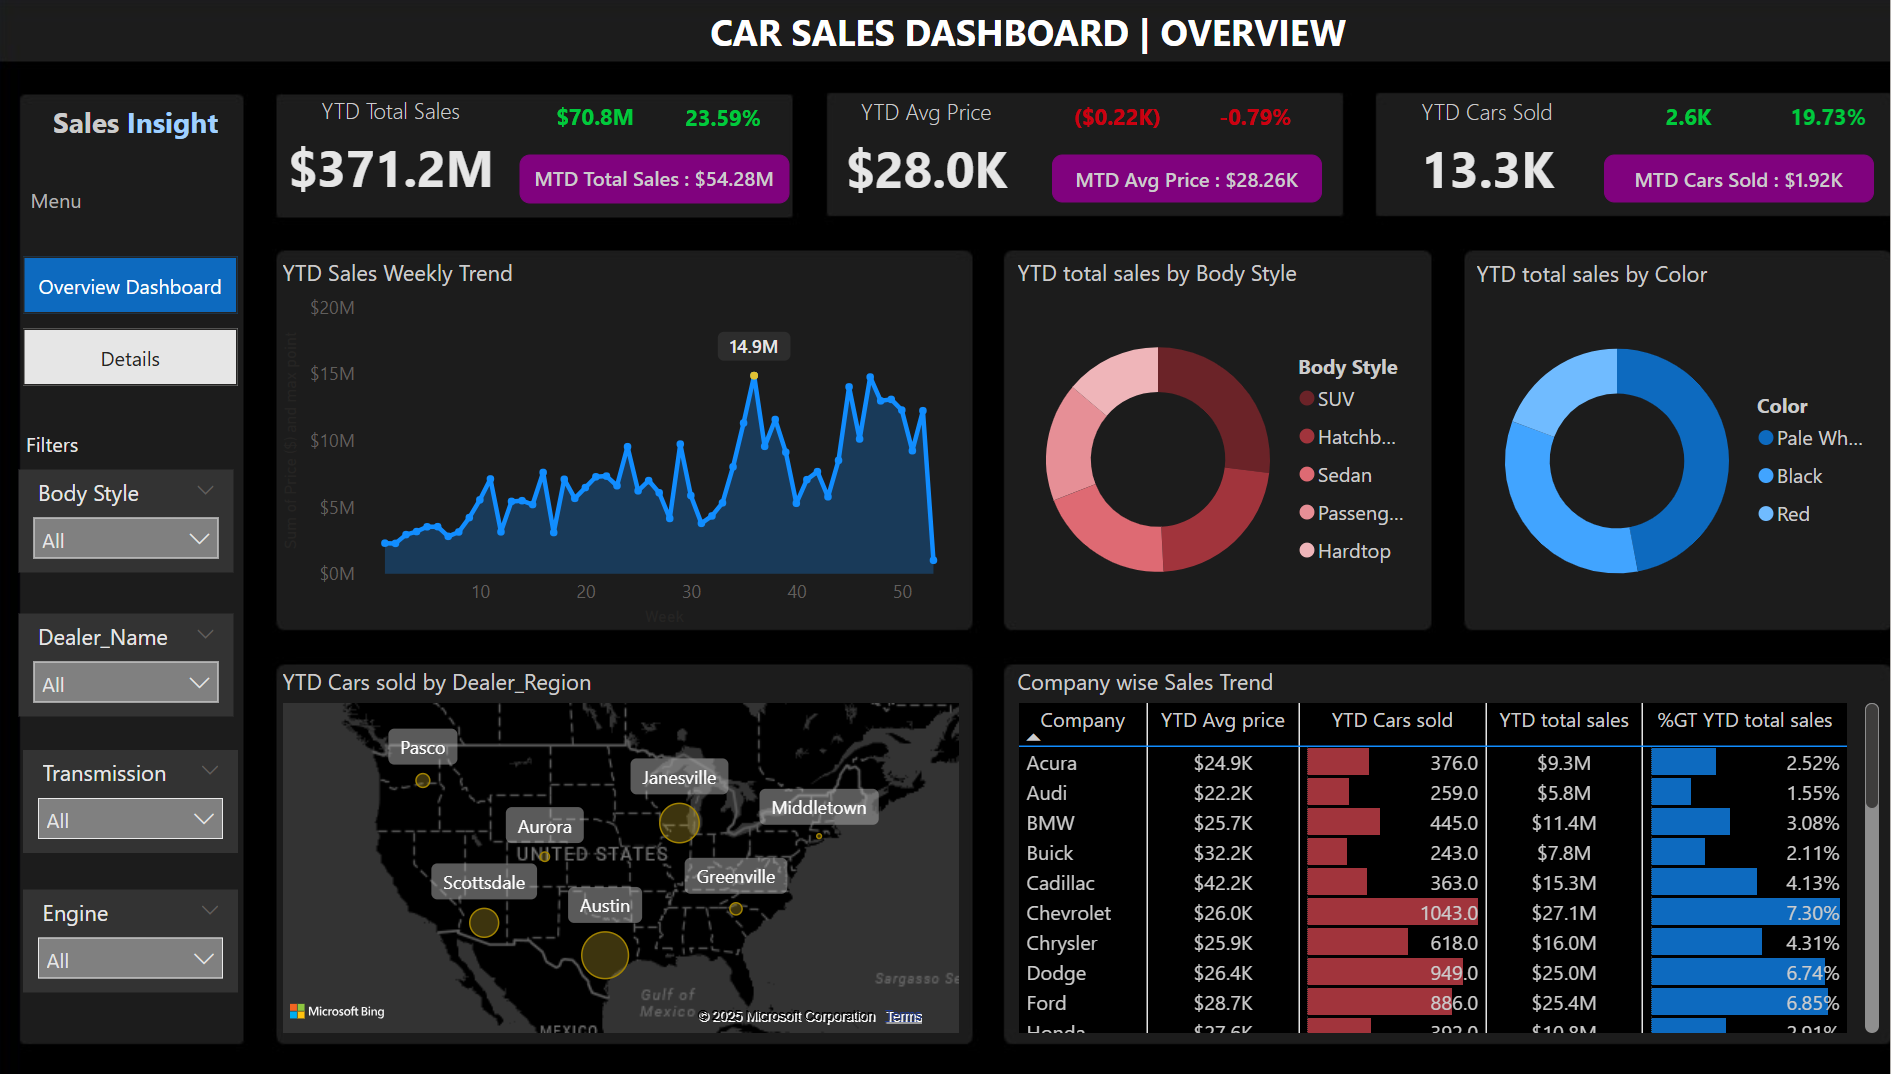

This screenshot's page, from the dashboard's own definition file:
{"tool":"powerbi","page":{"name":"Overview Dashboard","canvas":[1280,720],"ordinal":0},"visuals":[{"type":"card","title":"YTD Total Sales","fields":{"Values":["car_data.YTD total sales"]},"box":[185.6,63.3,154.4,78.9],"z":0},{"type":"card","fields":{"Values":["car_data.Sales Differnce"]},"box":[340,62.2,117.8,36.7],"z":1000},{"type":"card","fields":{"Values":["car_data.YOY Sales Growth"]},"box":[432.2,63.3,104.4,35.6],"z":2000},{"type":"card","fields":{"Values":["car_data.MTD kpi"]},"box":[348.9,103.3,180,33],"z":3000},{"type":"card","title":"YTD Avg Price","fields":{"Values":["car_data.YTD Avg price"]},"box":[536,64,168,78],"z":4000},{"type":"card","fields":{"Values":["car_data.Avg price diff"]},"box":[688,62,118,36],"z":5000},{"type":"card","fields":{"Values":["car_data.YOY Avg price"]},"box":[780,62,118,36],"z":6000},{"type":"card","fields":{"Values":["car_data.MTD avg price Kpi"]},"box":[704,103,180,32],"z":7000},{"type":"card","title":"YTD Cars Sold","fields":{"Values":["car_data.YTD Cars sold"]},"box":[910,64,168,78],"z":8000},{"type":"card","fields":{"Values":["car_data.Cars sold diff"]},"box":[1069,62,118,36],"z":9000},{"type":"card","fields":{"Values":["car_data.YOY car sold"]},"box":[1162,62,118,36],"z":10000},{"type":"card","fields":{"Values":["car_data.MTD Cars sold Kpi"]},"box":[1072,103,180,32],"z":11000},{"type":"areaChart","title":"YTD Sales Weekly Trend","fields":{"Category":["Calendar.Week"],"Y":["Sum(car_data.Price ($))","car_data.max point"]},"box":[186,171,461,251],"z":12000},{"type":"donutChart","fields":{"Category":["car_data.Body Style"],"Y":["car_data.YTD total sales"]},"box":[676,171,278,251],"z":13000},{"type":"donutChart","fields":{"Y":["car_data.YTD total sales"],"Category":["car_data.Color"]},"box":[982,172,278,251],"z":14000},{"type":"map","fields":{"Category":["car_data.Dealer_Region"],"Size":["car_data.YTD Cars sold"]},"box":[186,444,461,250],"z":15000},{"type":"tableEx","title":"Company wise Sales Trend","fields":{"Values":["car_data.Company","car_data.YTD Avg price","car_data.YTD Cars sold","car_data.YTD total sales1","car_data.YTD total sales"]},"box":[676,444,584,250],"z":16000},{"type":"textbox","box":[454,0,468,43],"z":17000},{"type":"slicer","fields":{"Values":["car_data.Body Style"]},"box":[15,313,143,69],"z":18000},{"type":"slicer","fields":{"Values":["car_data.Dealer_Name"]},"box":[15,409,143,69],"z":19000},{"type":"slicer","fields":{"Values":["car_data.Transmission"]},"box":[18,500,143,69],"z":20000},{"type":"slicer","fields":{"Values":["car_data.Engine"]},"box":[18,593,143,69],"z":21000},{"type":"textbox","box":[15,282,150,31],"z":22000},{"type":"textbox","box":[18,64,150,39],"z":23000},{"type":"textbox","box":[18,119,53,29],"z":24000},{"type":"pageNavigator","box":[18,171,143,86],"z":25000}]}

Visuals, with their boxes on the page's 1280x720 design canvas (x1, y1, x2, y2). These are canvas units, not pixel positions in the 1893x1074 screenshot, which may show the page scaled, cropped or inside an application window:
"YTD Total Sales" card: [left=186, top=63, right=340, bottom=142]
card - car_data.Sales Differnce: [left=340, top=62, right=458, bottom=99]
card - car_data.YOY Sales Growth: [left=432, top=63, right=537, bottom=99]
card - car_data.MTD kpi: [left=349, top=103, right=529, bottom=136]
"YTD Avg Price" card: [left=536, top=64, right=704, bottom=142]
card - car_data.Avg price diff: [left=688, top=62, right=806, bottom=98]
card - car_data.YOY Avg price: [left=780, top=62, right=898, bottom=98]
card - car_data.MTD avg price Kpi: [left=704, top=103, right=884, bottom=135]
"YTD Cars Sold" card: [left=910, top=64, right=1078, bottom=142]
card - car_data.Cars sold diff: [left=1069, top=62, right=1187, bottom=98]
card - car_data.YOY car sold: [left=1162, top=62, right=1280, bottom=98]
card - car_data.MTD Cars sold Kpi: [left=1072, top=103, right=1252, bottom=135]
"YTD Sales Weekly Trend" areaChart: [left=186, top=171, right=647, bottom=422]
donutChart - car_data.Body Style x car_data.YTD total sales: [left=676, top=171, right=954, bottom=422]
donutChart - car_data.YTD total sales x car_data.Color: [left=982, top=172, right=1260, bottom=423]
map - car_data.Dealer_Region x car_data.YTD Cars sold: [left=186, top=444, right=647, bottom=694]
"Company wise Sales Trend" tableEx: [left=676, top=444, right=1260, bottom=694]
textbox: [left=454, top=0, right=922, bottom=43]
slicer - car_data.Body Style: [left=15, top=313, right=158, bottom=382]
slicer - car_data.Dealer_Name: [left=15, top=409, right=158, bottom=478]
slicer - car_data.Transmission: [left=18, top=500, right=161, bottom=569]
slicer - car_data.Engine: [left=18, top=593, right=161, bottom=662]
textbox: [left=15, top=282, right=165, bottom=313]
textbox: [left=18, top=64, right=168, bottom=103]
textbox: [left=18, top=119, right=71, bottom=148]
pageNavigator: [left=18, top=171, right=161, bottom=257]
